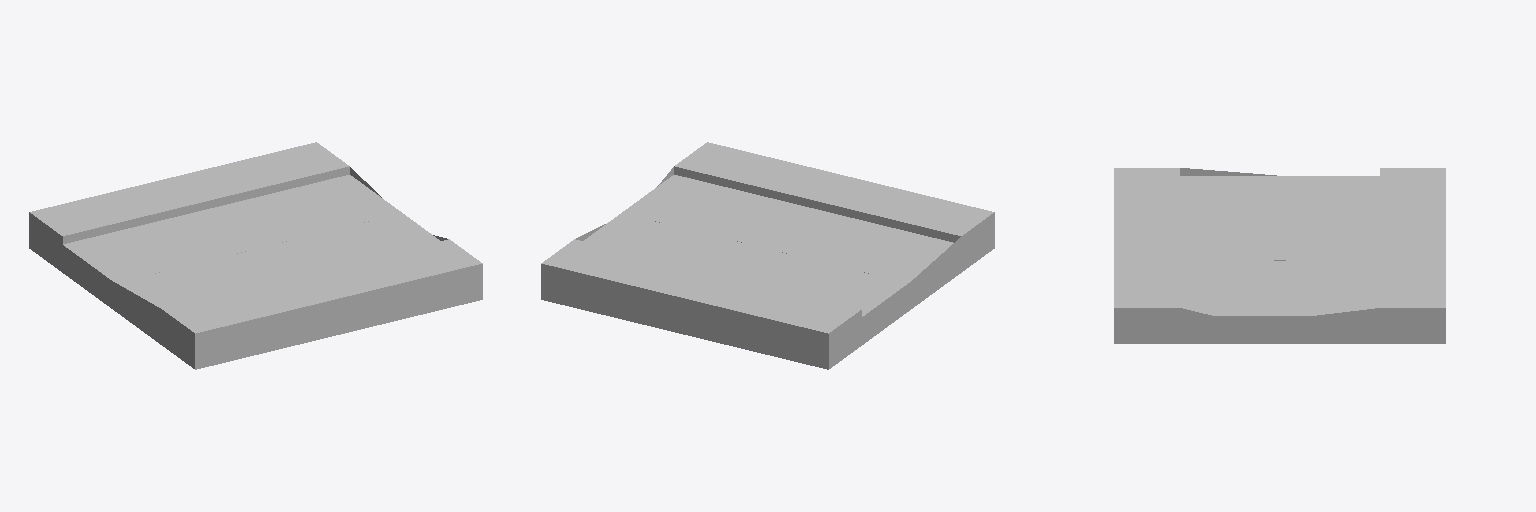
File: roadstraight.obj
3 renders of one model, left to right at view 1: azimuth 30°, elevation 25°; view 2: azimuth 150°, elevation 25°; view 3: azimuth 270°, elevation 25°, orthographic.
Bounding box in the file's own units: 2.66 × 0.3215 × 2.66.